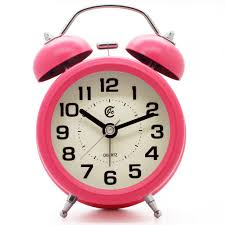alarm_clock: (29, 3, 184, 218), (29, 9, 184, 218)
